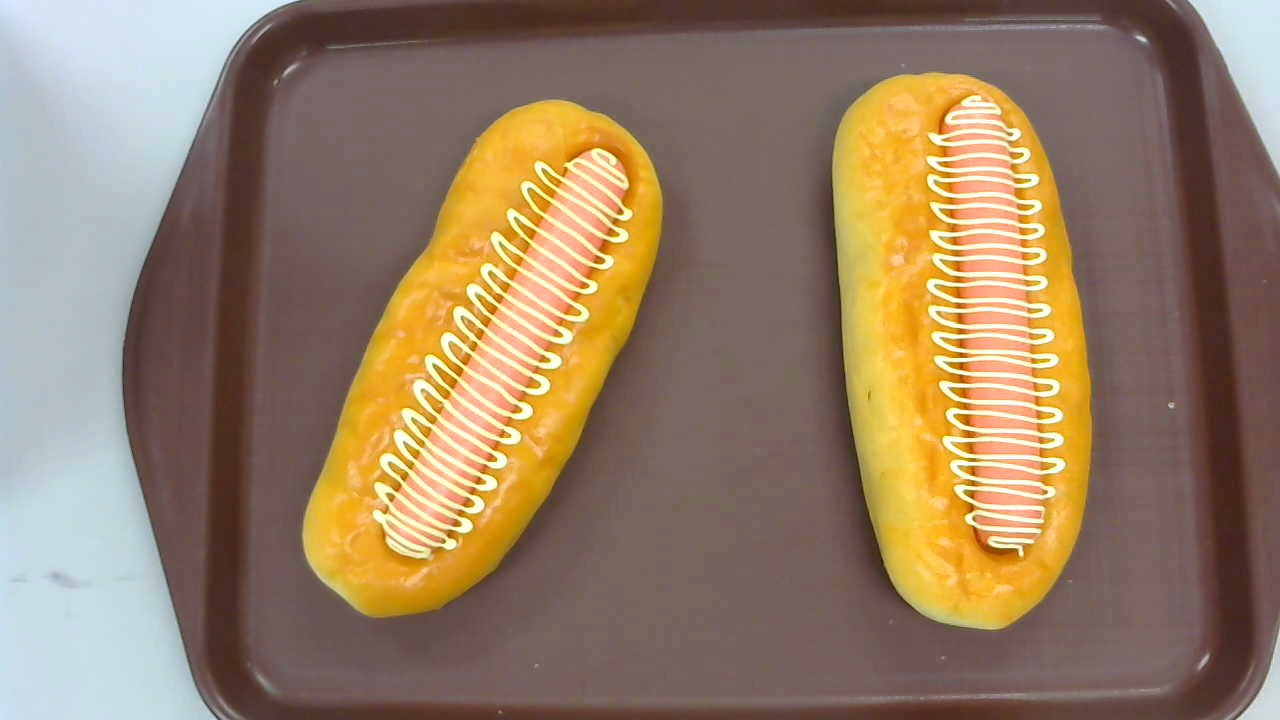hot dog: (301, 100, 665, 620), (830, 68, 1091, 630)
